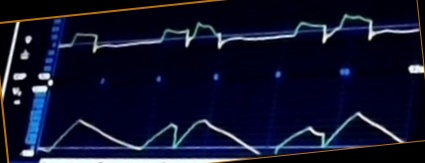Double_Triggering Flow: (62, 12, 418, 64)
Double_Triggering Volume: (43, 105, 407, 157)
